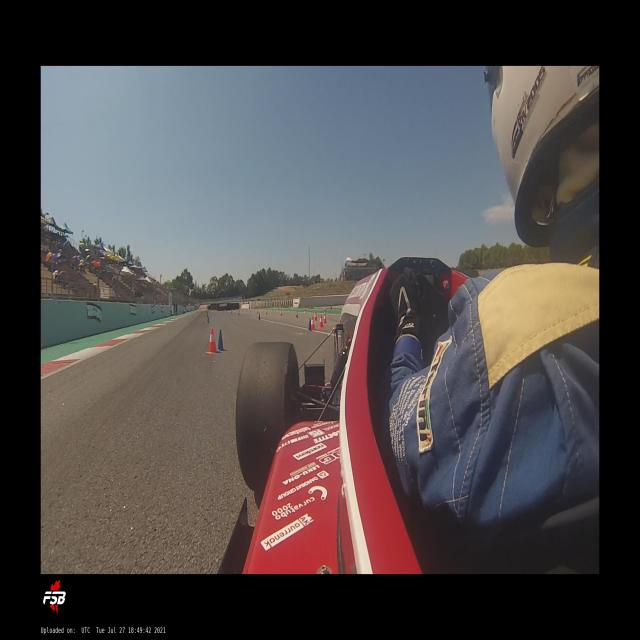orange_cone: (207, 328, 217, 353), (311, 316, 315, 331), (319, 315, 323, 328), (314, 312, 317, 322), (324, 313, 326, 324), (296, 311, 298, 318), (281, 310, 282, 316), (266, 310, 267, 314)
unknown_cone: (217, 329, 226, 352), (308, 318, 311, 330), (207, 316, 209, 324), (258, 313, 260, 320), (207, 312, 208, 317)
